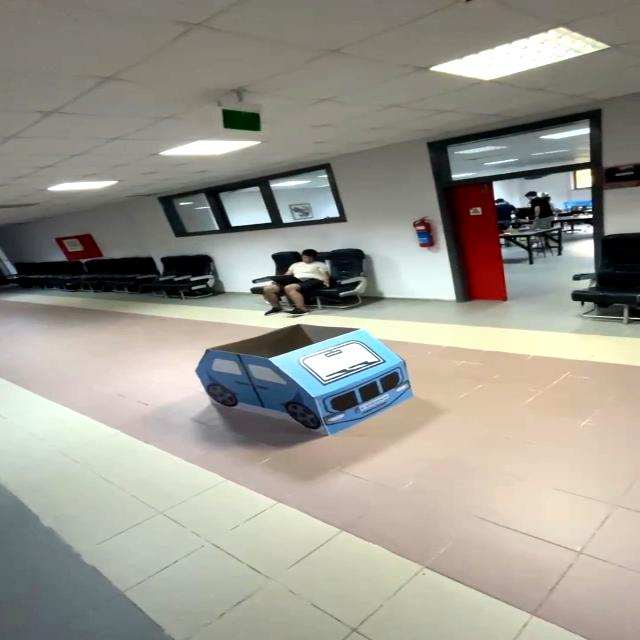blue_car: (178, 318, 437, 448)
